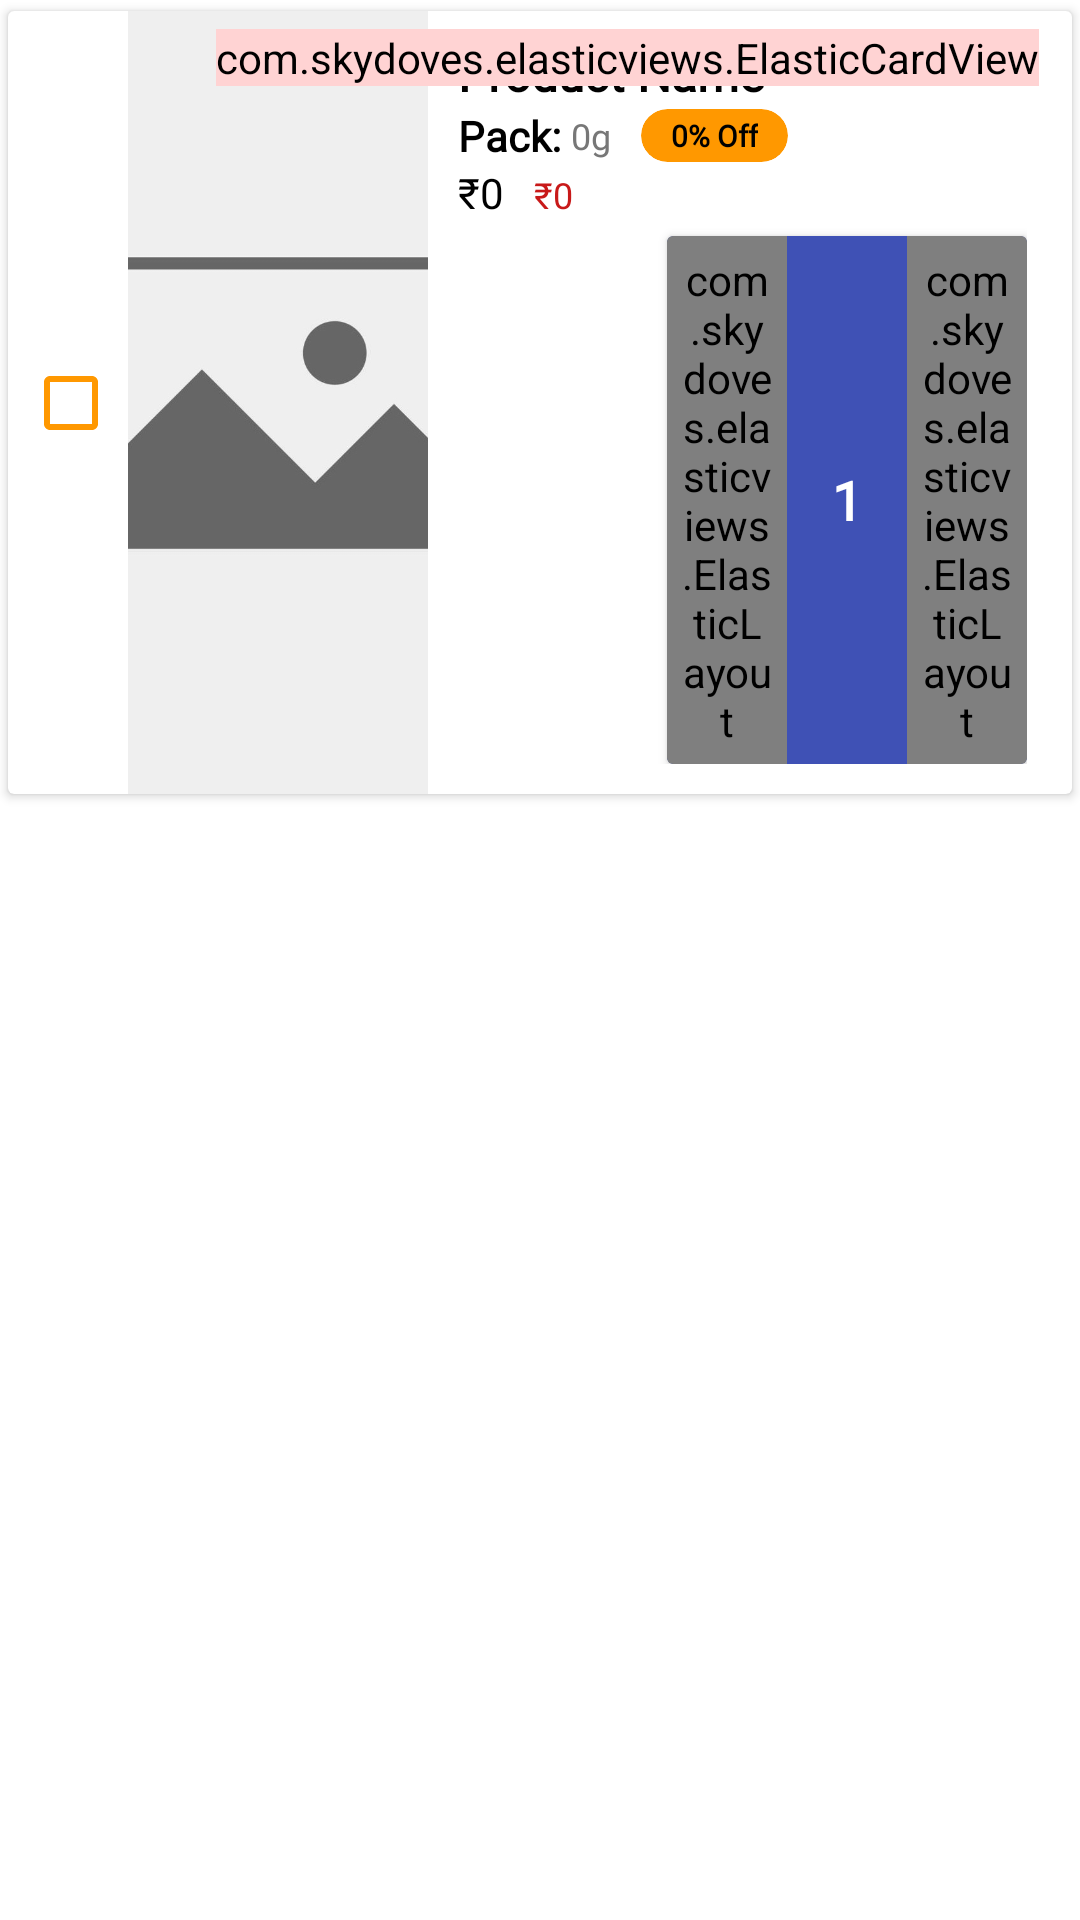

Where icons sit on this 1080x1920 app screen, as (x1, y1, x2, y2):
noimg: (128, 257, 428, 549)
